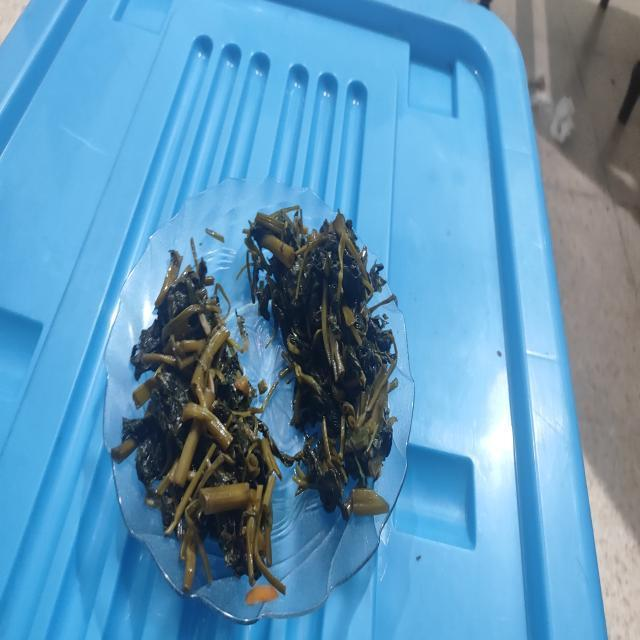tumis_kangkung: (110, 251, 286, 594), (243, 206, 398, 517)
